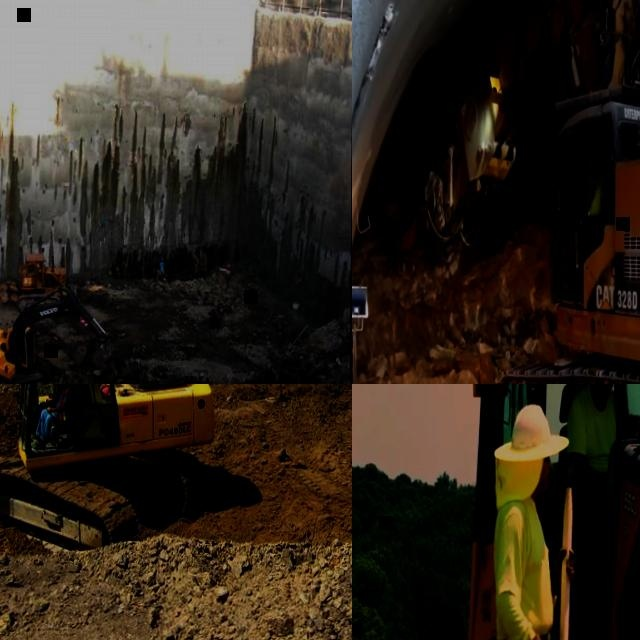Hardhat: (161, 256, 165, 260)
NO-Hardhat: (509, 401, 552, 461)
NO-Mask: (593, 384, 609, 407), (541, 467, 550, 491)
NO-Safety Vest: (494, 495, 557, 640), (565, 384, 616, 481)
Person: (492, 399, 577, 640), (564, 384, 618, 610), (576, 159, 604, 265), (31, 384, 71, 449), (159, 254, 166, 275)
Safety Vest: (589, 180, 604, 215), (56, 386, 71, 421), (160, 261, 165, 270)
machinery: (392, 0, 640, 384), (462, 384, 640, 640), (0, 384, 215, 556), (0, 283, 113, 384), (17, 252, 79, 309)
